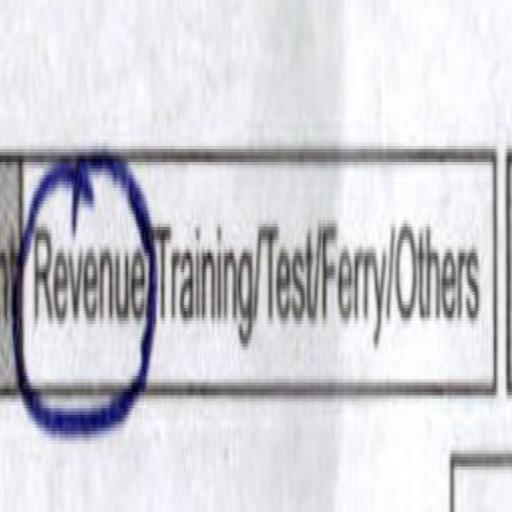check: (24, 93, 153, 463)
